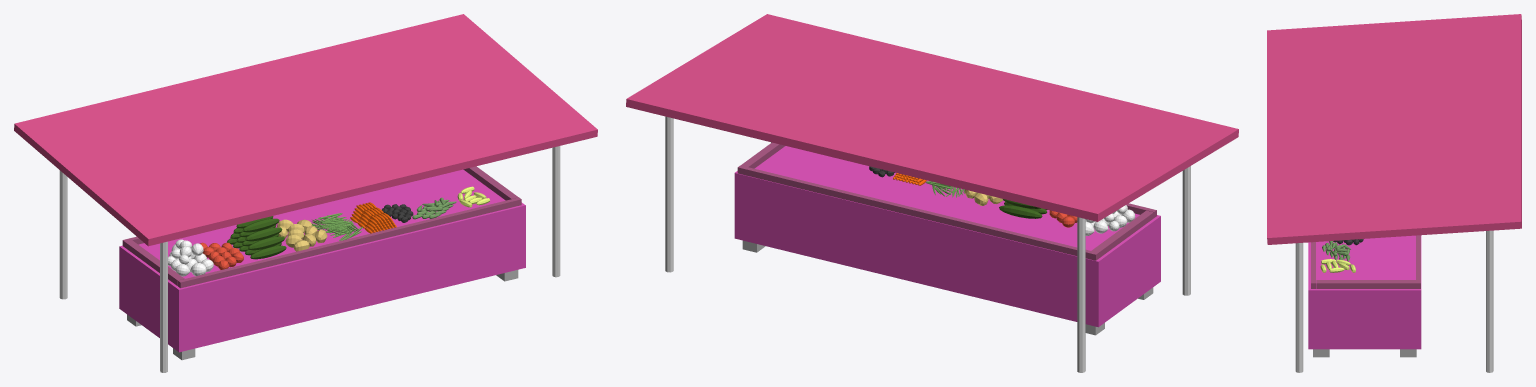
File: Puesto_Mercado_Verduras.fbx
3 views of the same model, side by side, from view 1: azimuth 30°, elevation 25°; view 2: azimuth 150°, elevation 25°; view 3: azimuth 270°, elevation 25° (orthographic). The views are drawn at different scales.
Parts seen in each view (by area): view 1: Cube.050, Cube.044, Cube.051, Cylinder.043, Cylinder.044, Cylinder.045, Cube.053, Cube.054; view 2: Cube.050, Cube.044, Cube.052, Cylinder.042, Cylinder.044, Cylinder.045, Cube.053; view 3: Cube.050, Cube.044, Cylinder.043, Cylinder.042, Cube.054, Cube.052, Cube.051.
Boxes of the visible parts, <box> form: Cube.050: <box>14,14,597,246</box>; Cube.044: <box>119,169,525,352</box>; Cube.051: <box>178,197,521,288</box>; Cylinder.043: <box>552,146,560,277</box>; Cylinder.044: <box>59,170,67,299</box>; Cylinder.045: <box>160,241,167,372</box>; Cube.053: <box>125,240,184,285</box>; Cube.054: <box>463,166,518,200</box>; Cube.050: <box>626,14,1238,221</box>; Cube.044: <box>734,146,1160,327</box>; Cube.052: <box>737,165,1098,260</box>; Cylinder.042: <box>665,116,673,272</box>; Cylinder.044: <box>1077,217,1085,372</box>; Cylinder.045: <box>1182,166,1190,295</box>; Cube.053: <box>1091,210,1153,258</box>; Cube.050: <box>1267,14,1521,244</box>; Cube.044: <box>1308,235,1421,349</box>; Cylinder.043: <box>1295,243,1303,372</box>; Cylinder.042: <box>1486,230,1493,372</box>; Cube.054: <box>1316,280,1416,288</box>; Cube.052: <box>1416,235,1420,288</box>; Cube.051: <box>1311,242,1315,288</box>.
Size of the model in its own units: 201 by 104 by 72.83.
